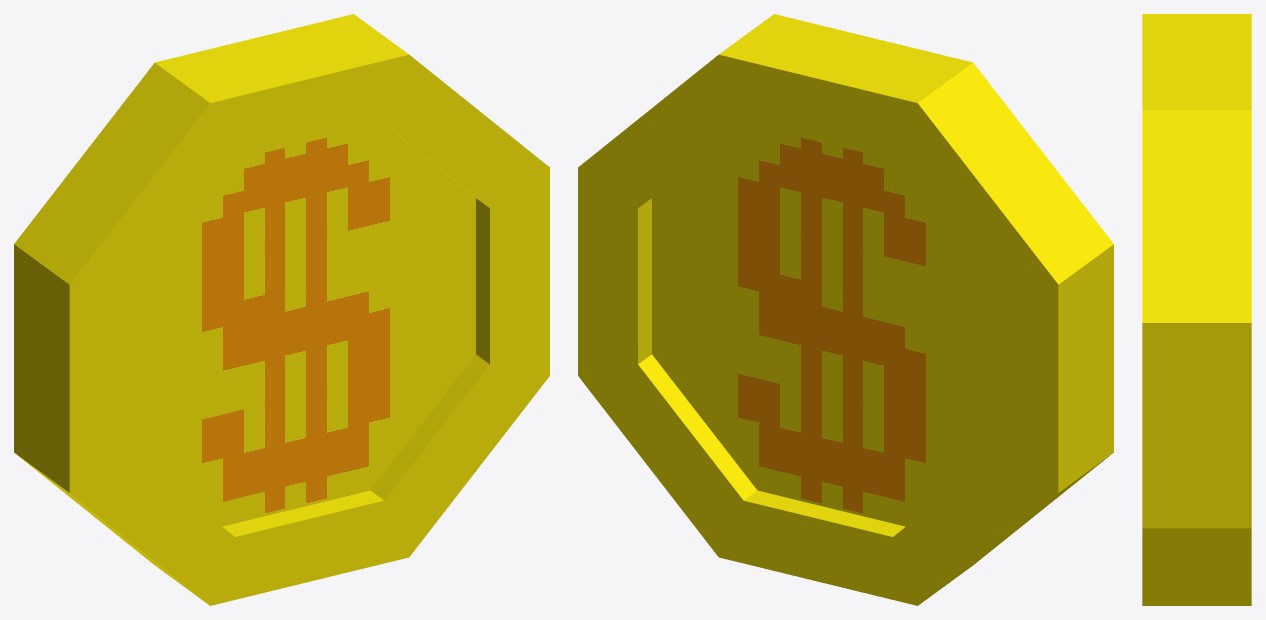
The model's file is coin.gltf.
The picture shows the model from 3 angles, left to right: view 1: azimuth 30°, elevation 25°; view 2: azimuth 150°, elevation 25°; view 3: azimuth 270°, elevation 25°; orthographic projection.
Parts seen in each view (by area): view 1: coin; view 2: coin; view 3: coin.
Part boxes in pixels (box(x1,y1,x2,y2)): coin: box(14, 14, 549, 605); coin: box(578, 14, 1113, 605); coin: box(1142, 14, 1251, 605).
Size of the model in its own units: 0.625 by 0.625 by 0.125.
1 material, 1 textured.
